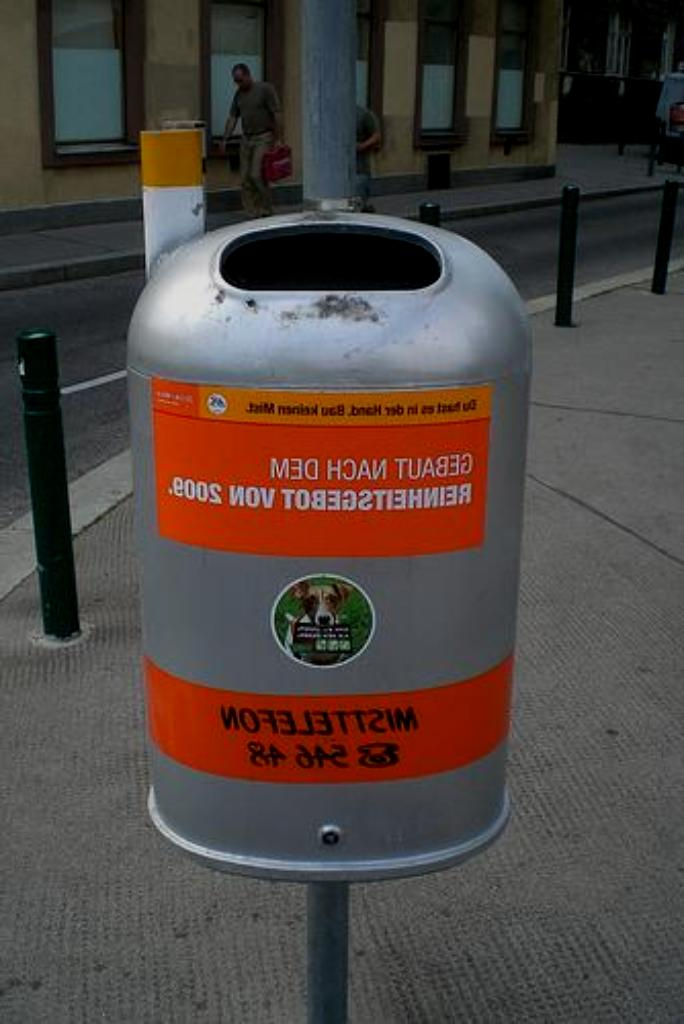dustbin: (109, 202, 545, 888)
